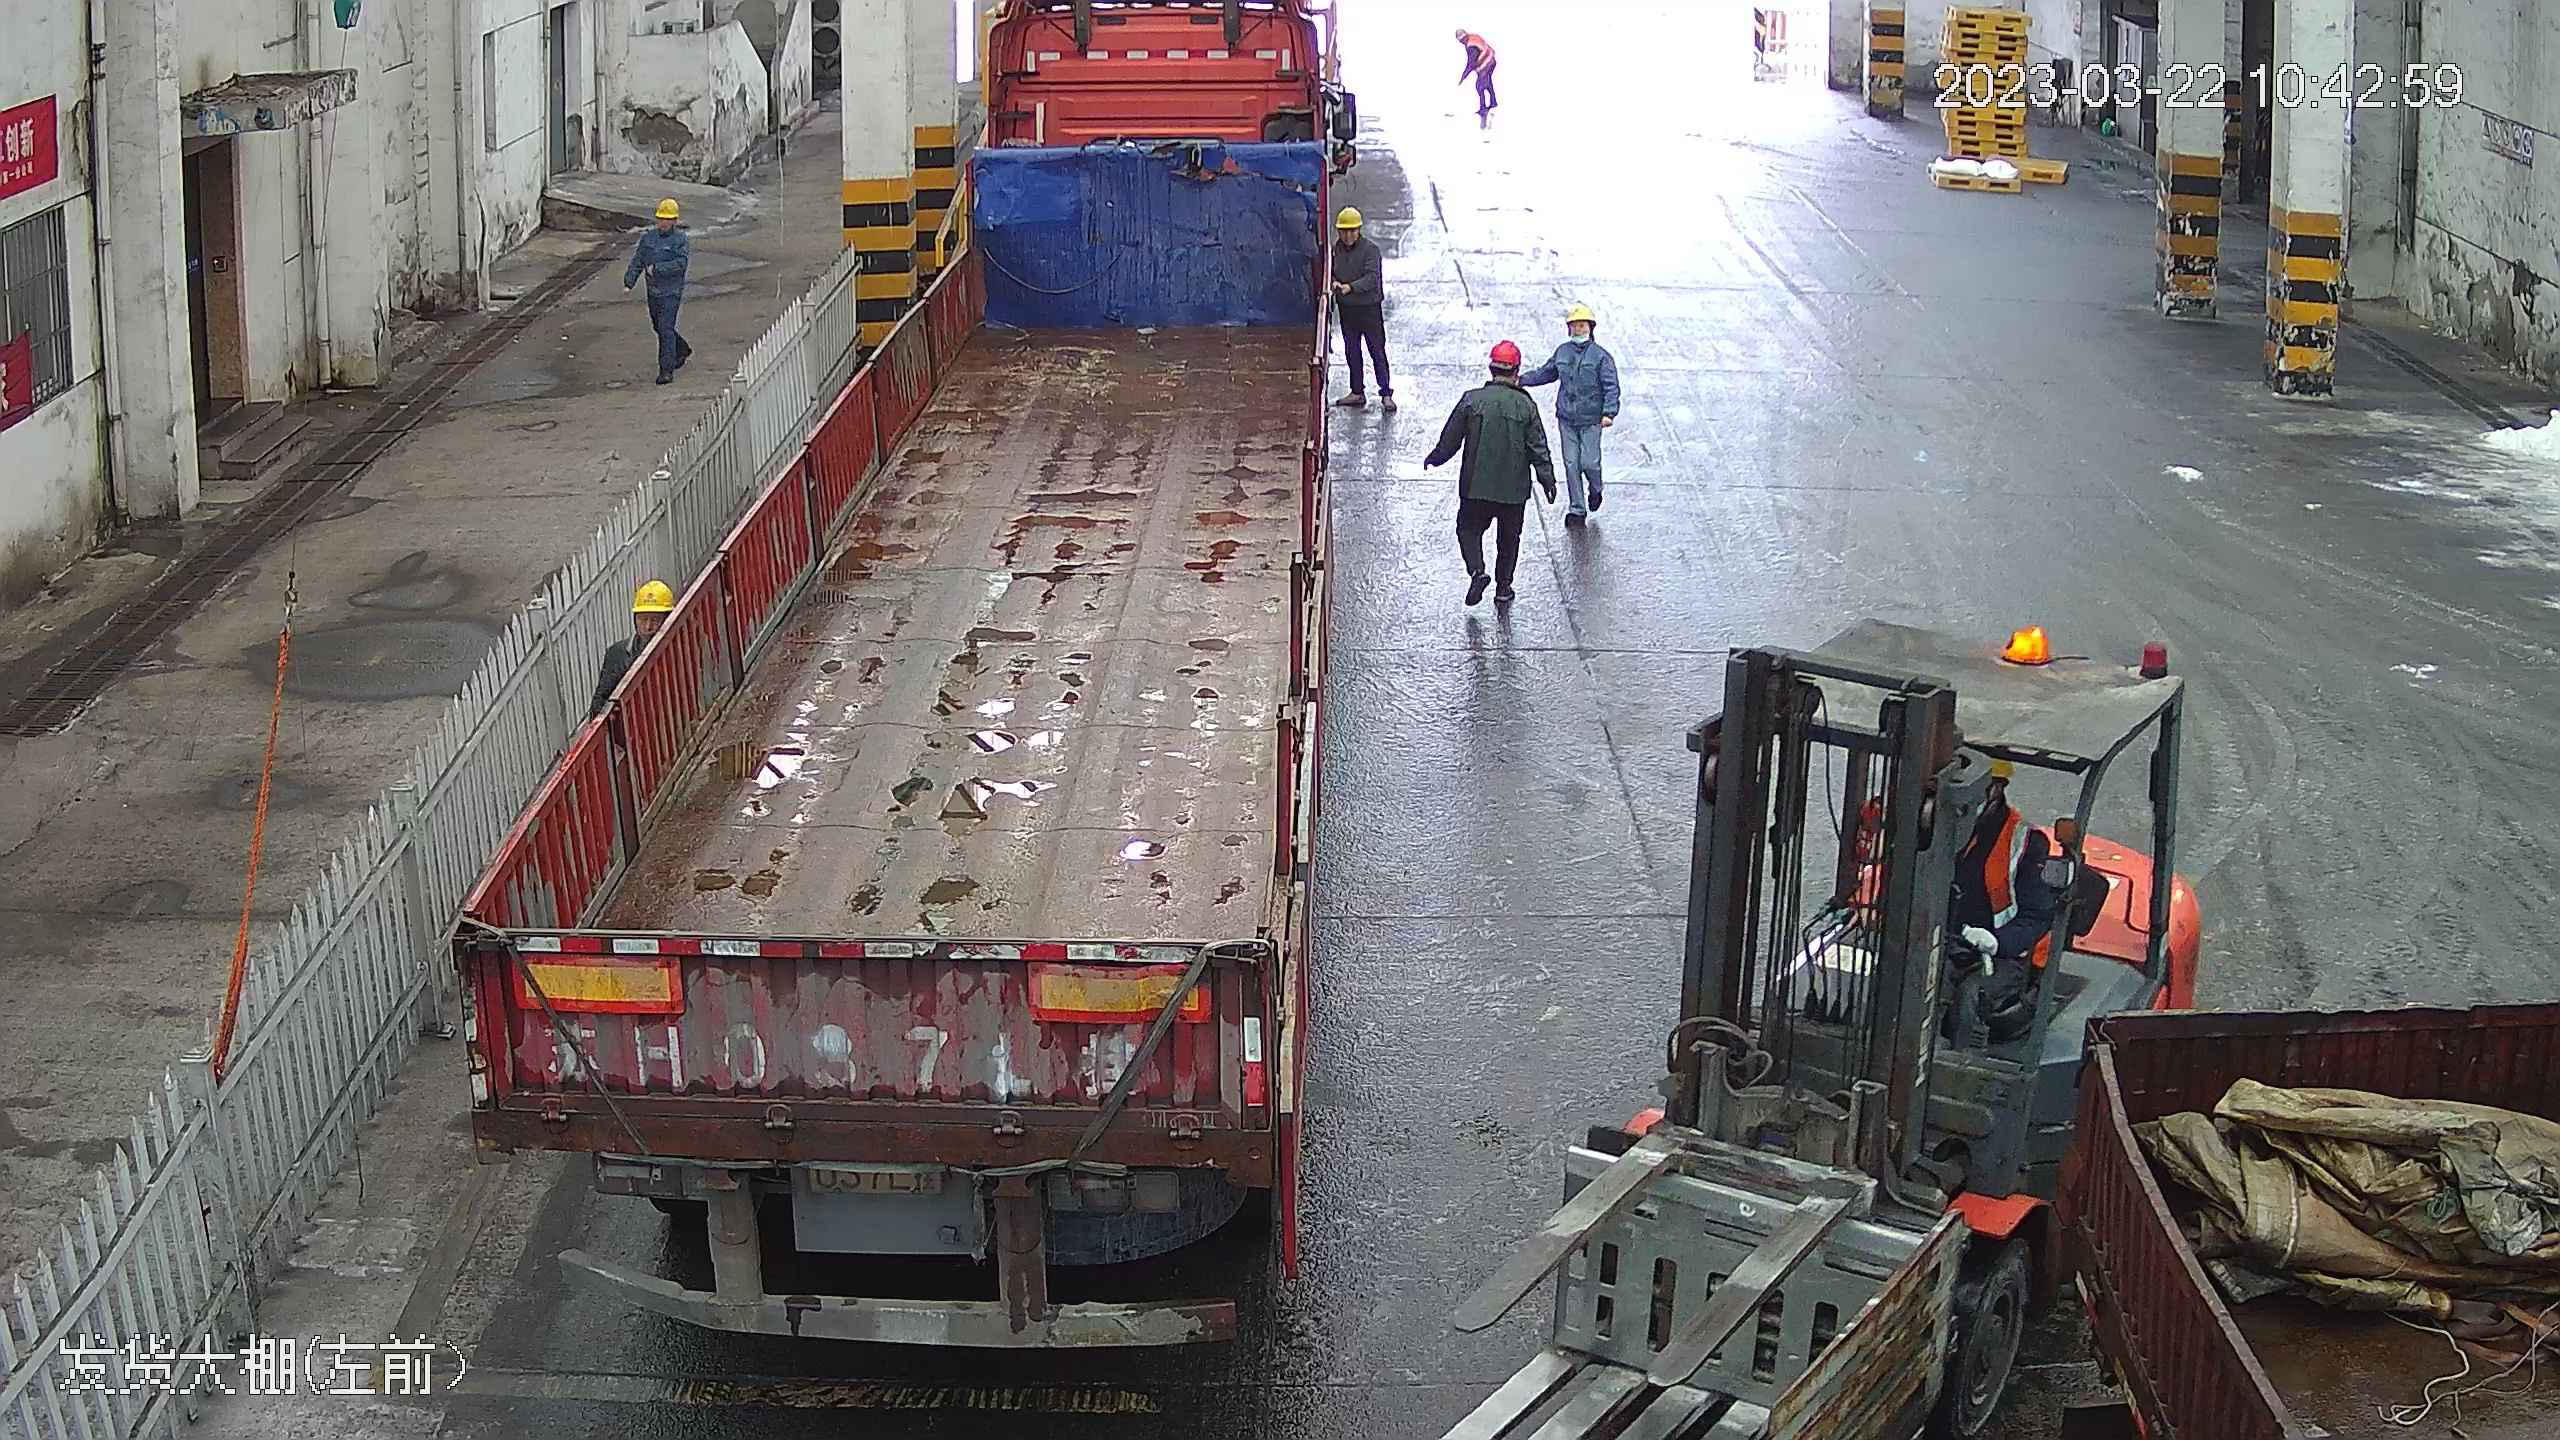head: (1455, 336, 1540, 416), (1545, 301, 1618, 373), (639, 195, 692, 259), (1329, 208, 1382, 273), (1458, 27, 1495, 67)
helmet: (627, 574, 680, 615), (1484, 335, 1523, 364), (651, 195, 684, 221), (1564, 299, 1597, 323), (1336, 207, 1365, 230), (1454, 28, 1468, 43)
people: (1420, 338, 1546, 617), (1540, 296, 1620, 542), (1324, 206, 1395, 413), (627, 189, 698, 383), (1455, 24, 1501, 127)
truck: (398, 1, 1378, 1360)
